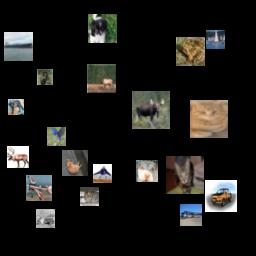airplane: (26, 175, 52, 201), (93, 164, 112, 183)
automobile: (205, 180, 237, 212)
bird: (47, 127, 66, 146)
cat: (190, 100, 228, 138), (166, 156, 204, 194), (62, 150, 88, 176), (80, 187, 99, 206), (8, 99, 24, 115)
deer: (132, 91, 170, 129), (87, 64, 116, 93), (7, 146, 29, 168), (36, 209, 55, 228)
dog: (88, 14, 117, 43), (136, 160, 158, 182)
frog: (176, 37, 205, 66)
ship: (4, 32, 33, 61), (206, 30, 225, 49)
truck: (180, 204, 202, 226)
